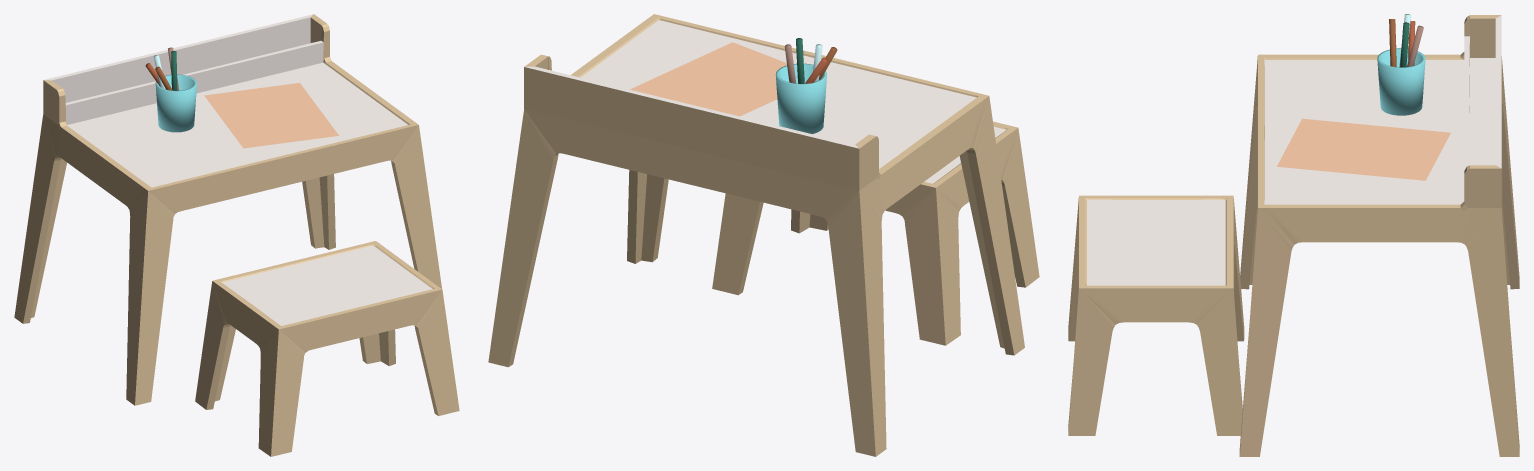
File: Furn8_worktable_color1.fbx
3 views of the same model, side by side, from view 1: azimuth 30°, elevation 25°; view 2: azimuth 150°, elevation 25°; view 3: azimuth 270°, elevation 25° (orthographic). The views are drawn at different scales.
Parts seen in each view (by area): view 1: Plane.028; view 2: Plane.028; view 3: Plane.028.
Boxes of the visible parts, bbox=[...] form: Plane.028: bbox=[14, 14, 459, 456]; Plane.028: bbox=[488, 14, 1039, 456]; Plane.028: bbox=[1068, 14, 1519, 456].
Size of the model in its own units: 245 by 215 by 263.
